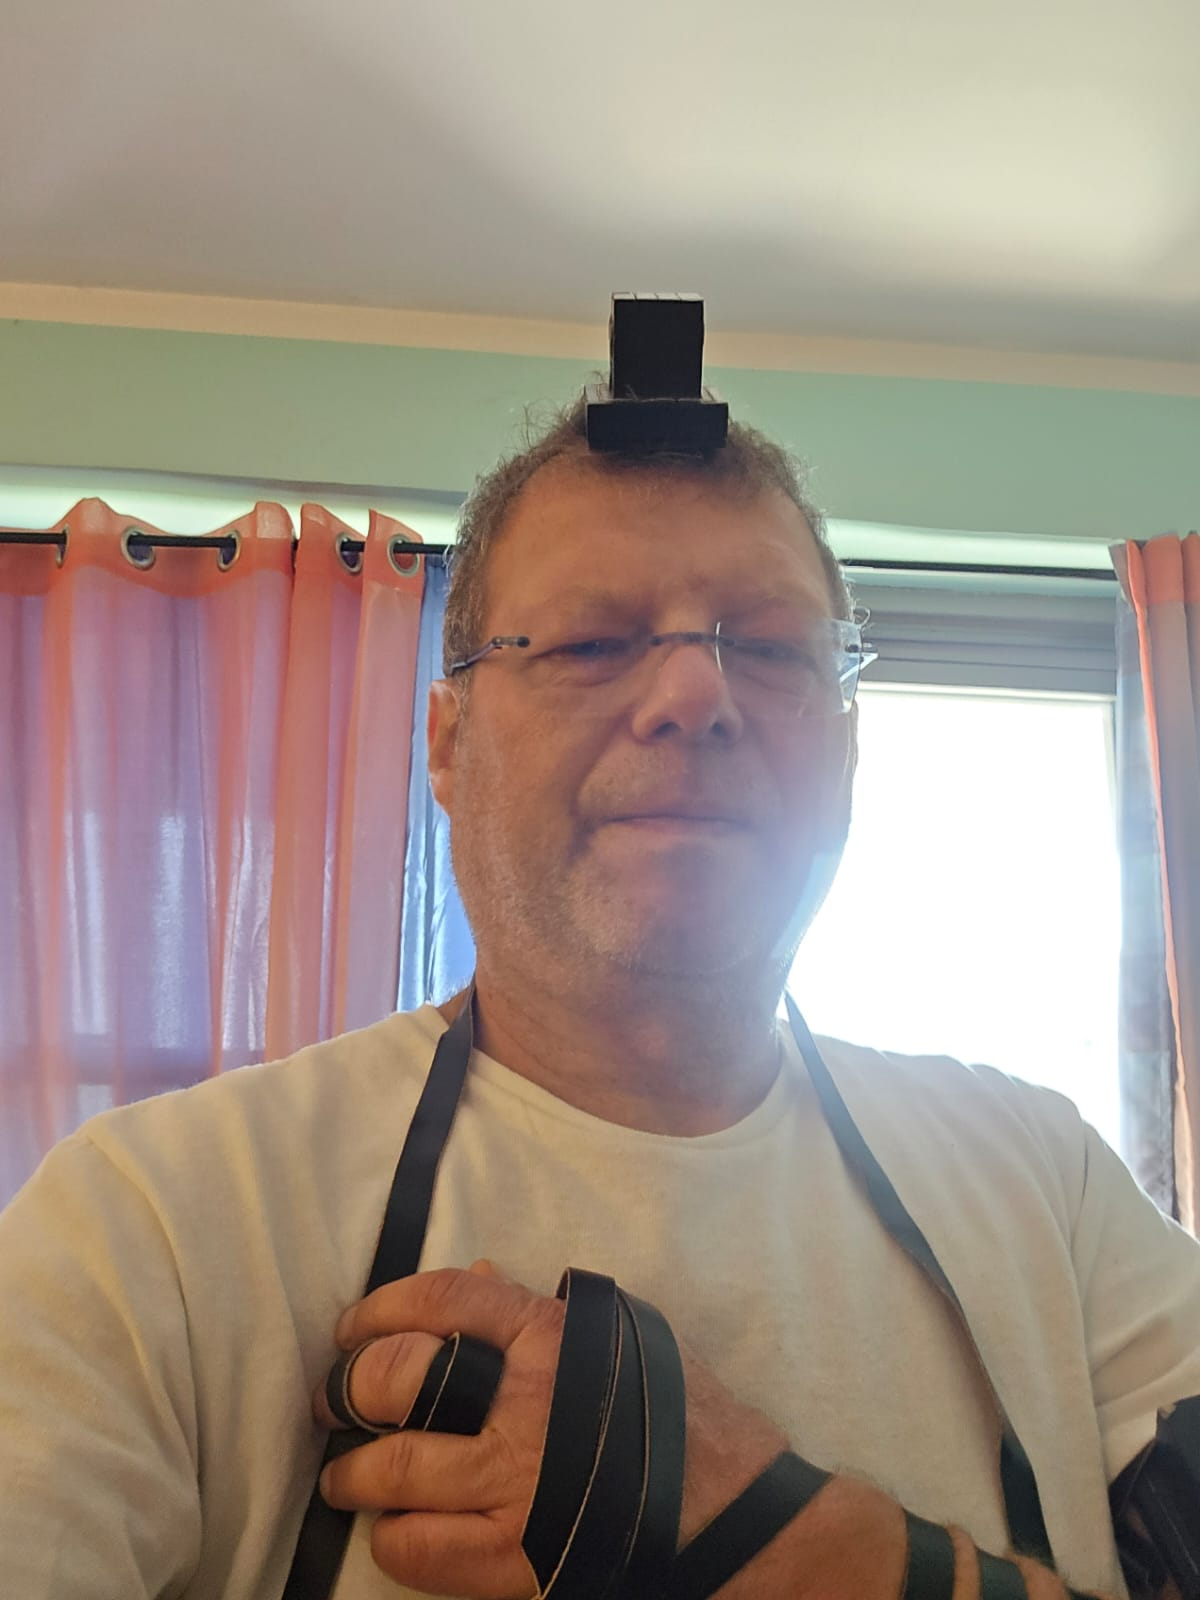tefillin: (579, 292, 731, 449)
